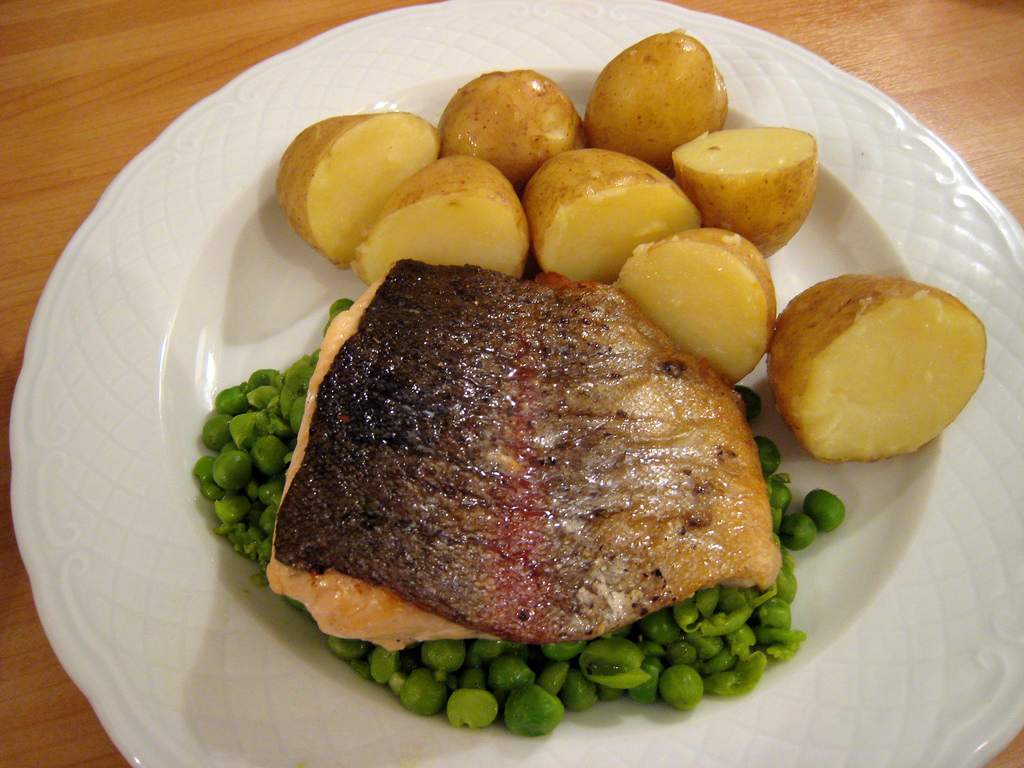boiled peas: (417, 617, 783, 731), (184, 351, 296, 557)
boiled potatoes: (249, 25, 868, 274)
